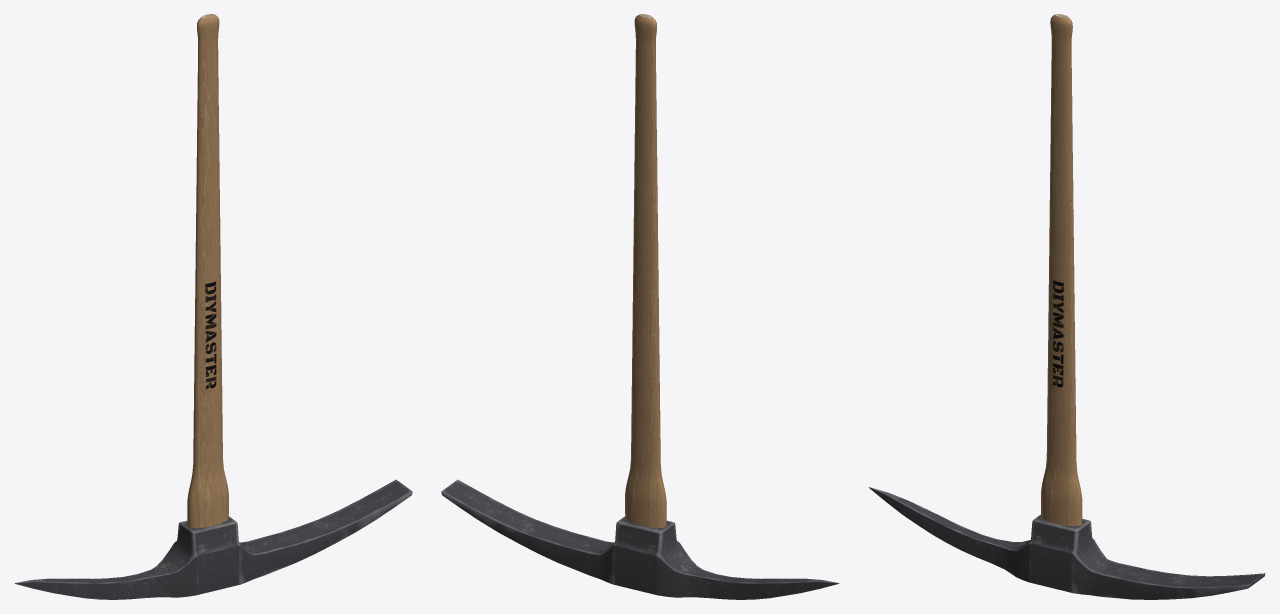
Rendered from pickaxe.fbx.
3 views of the same model, side by side, from view 1: azimuth 30°, elevation 25°; view 2: azimuth 150°, elevation 25°; view 3: azimuth 330°, elevation 25° (orthographic).
Parts seen in each view (by area): view 1: SM_Pickaxe, SM_Pickaxe.001; view 2: SM_Pickaxe, SM_Pickaxe.001; view 3: SM_Pickaxe, SM_Pickaxe.001.
Boxes of the visible parts, x1=… form: SM_Pickaxe: x1=187, y1=14, x2=228, y2=527; SM_Pickaxe.001: x1=14, y1=479, x2=412, y2=599; SM_Pickaxe: x1=625, y1=14, x2=666, y2=527; SM_Pickaxe.001: x1=441, y1=479, x2=839, y2=599; SM_Pickaxe: x1=1041, y1=14, x2=1082, y2=526; SM_Pickaxe.001: x1=868, y1=487, x2=1265, y2=599.
Bounding box in the file's own units: 143 × 200 × 13.37.
2 materials, 2 textured.
